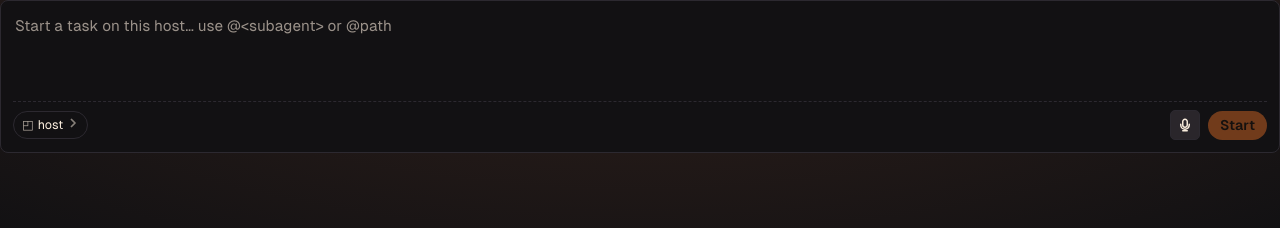
Test: TaskLauncher › shows slash commands in the host-level launcher
The image size is (1280, 228).
Type "/" into the text box named "Task prompt" at point(640, 49), box [13, 13, 1267, 85]
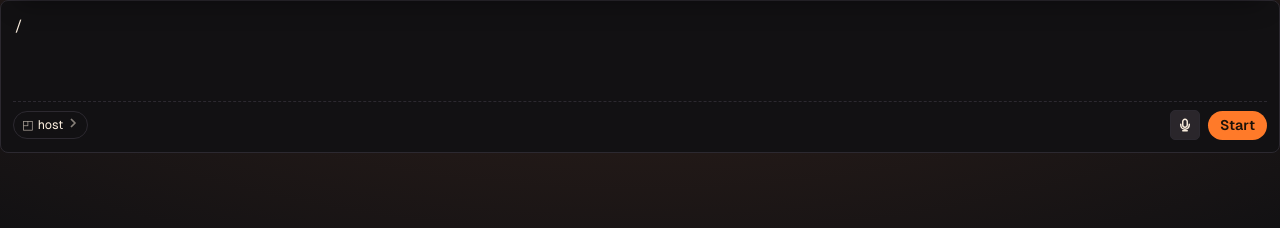
Press Tab in the text box named "Task prompt", box [13, 13, 1267, 85]
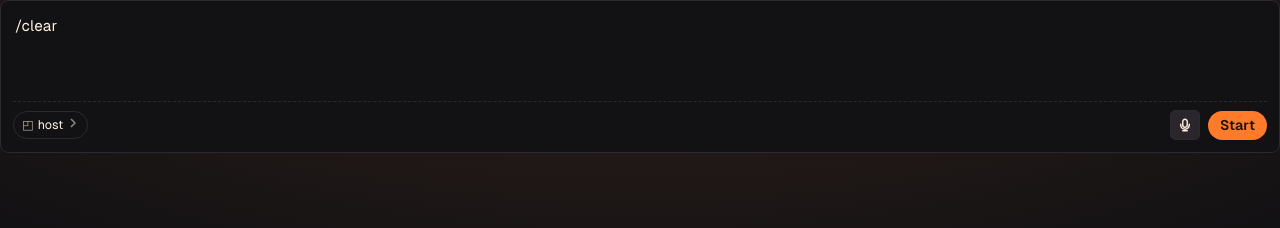
Result: the text box named "Task prompt" holds "/clear " at [13, 13, 1267, 85]
